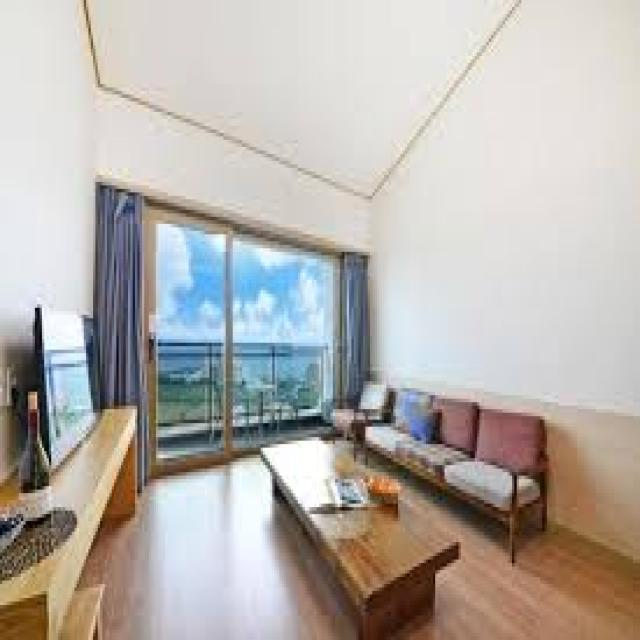Chair: (328, 374, 382, 448)
Sofa: (391, 384, 556, 560)
Table: (259, 441, 464, 636)
tv: (32, 303, 104, 459)
window: (105, 187, 361, 378)
